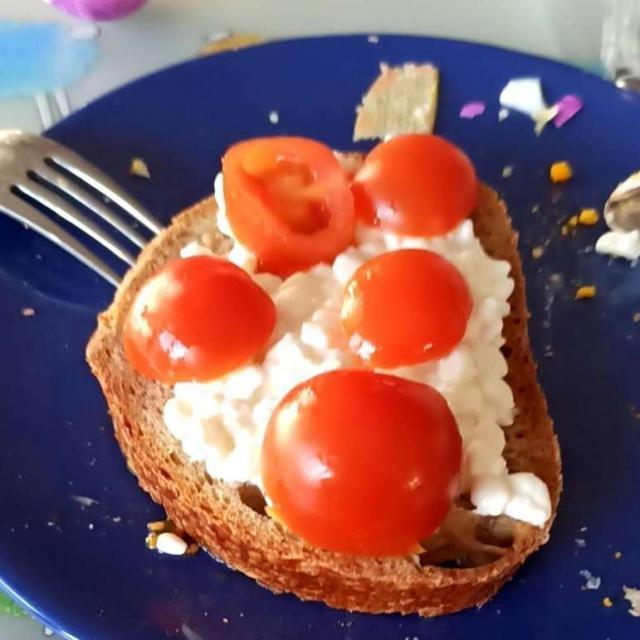bread: (94, 120, 557, 603)
cheese: (159, 222, 558, 522)
tomato: (114, 134, 488, 552)
